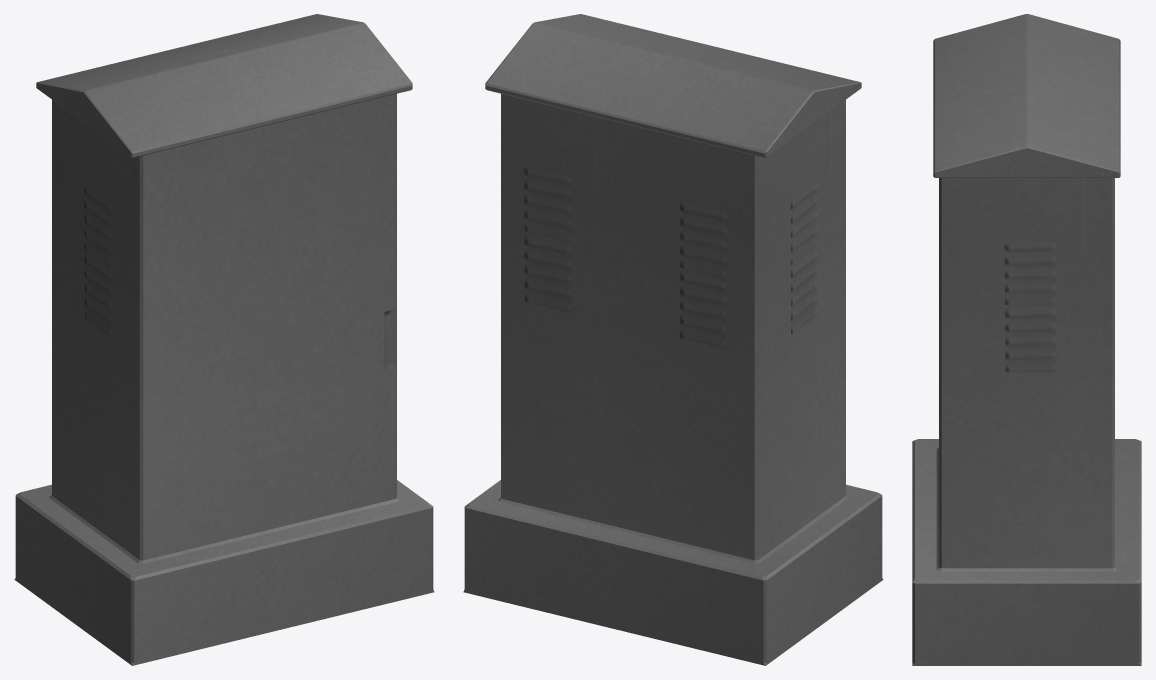
The picture shows the model from 3 angles, left to right: view 1: azimuth 30°, elevation 25°; view 2: azimuth 150°, elevation 25°; view 3: azimuth 270°, elevation 25°; orthographic projection. The views are drawn at different scales.
Parts seen in each view (by area): view 1: sm_box_001; view 2: sm_box_001; view 3: sm_box_001.
Boxes of the visible parts, x1,y1,x2,y2 form: sm_box_001: (14,14,434,665); sm_box_001: (463,14,883,665); sm_box_001: (912,14,1141,665).
Bounding box in the file's own units: 0.6951 × 1.16 × 0.4695.
Materials: 1 (1 with a texture image).
